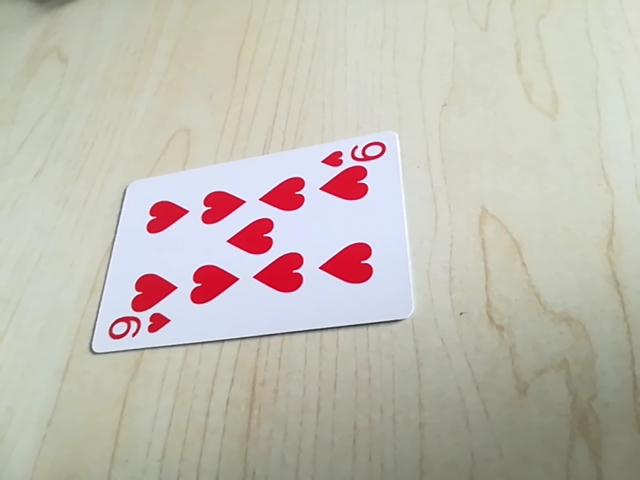hx 9: (103, 311, 171, 347), (319, 137, 393, 169)
